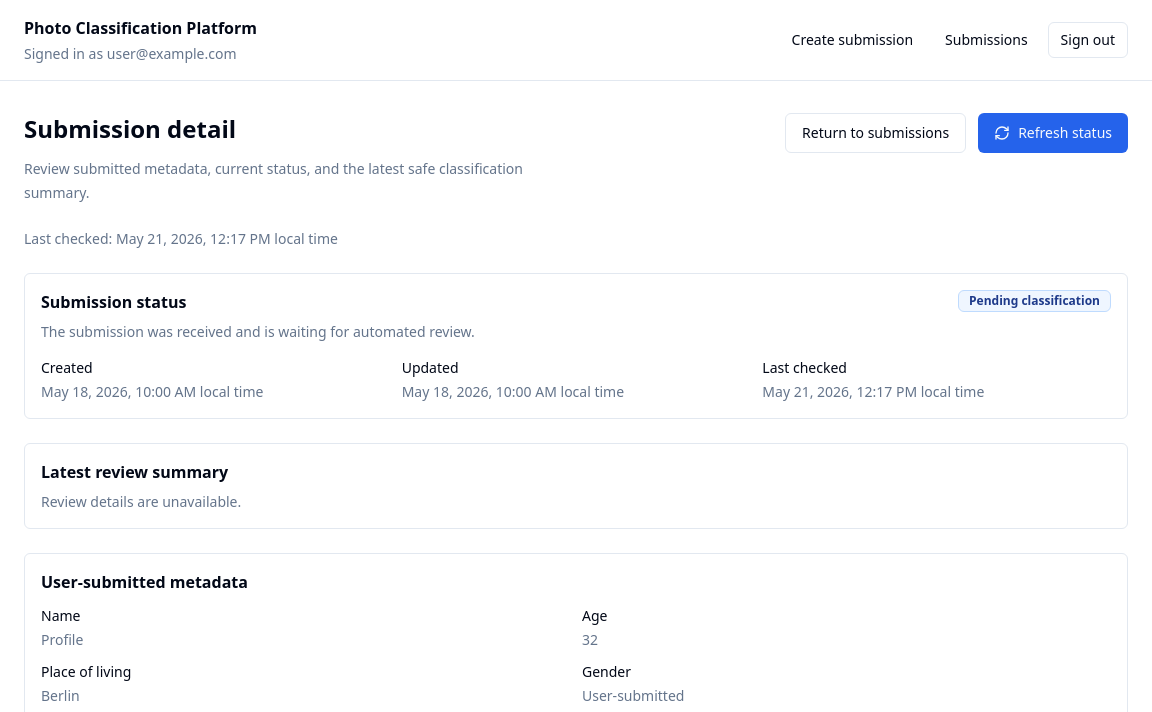
Test: SubmissionDetailPage › shows status, last checked time, return navigation, and refreshed results
Expected: the heading "Submission detail" is shown, [24,112,236,145]
Expected: the text "Pending classification" is shown, [969,292,1100,309]
Click the button "Refresh status". click: (1053, 133)
box: [978,113,1128,153]
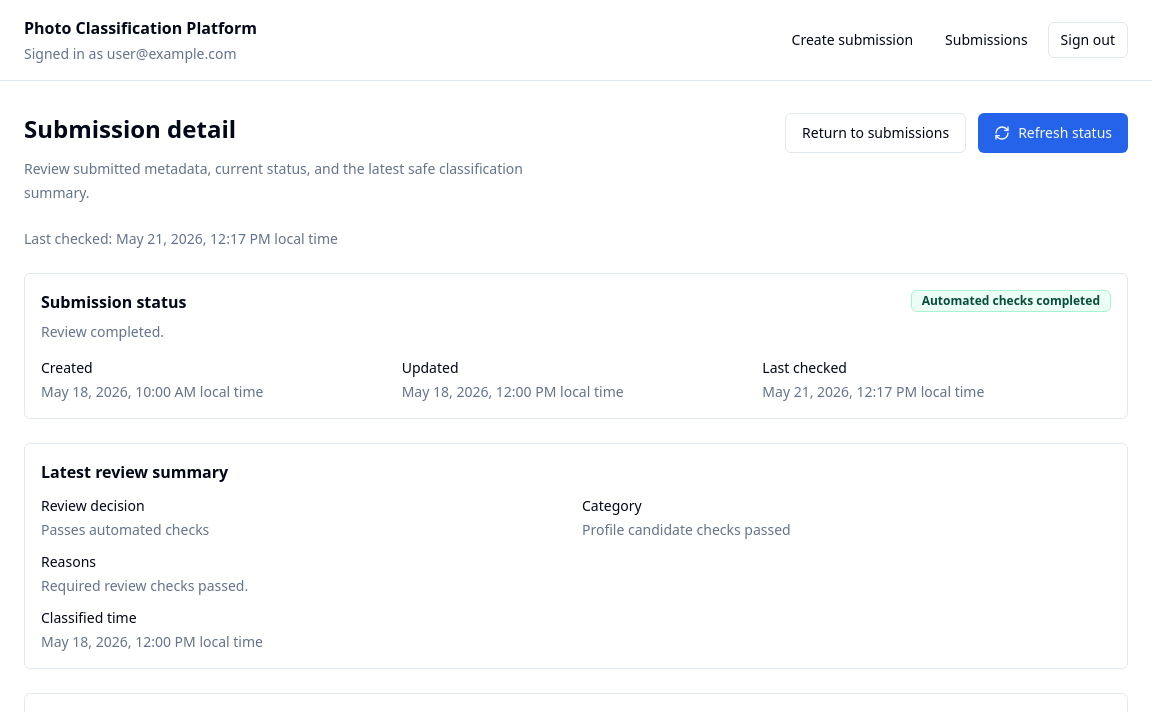
Result: the text "Automated checks completed" is shown at [922,292,1100,309]
Result: the text "Passes automated checks" is shown at [41,520,209,539]
Result: the text "Required review checks passed." is shown at [41,576,248,595]
